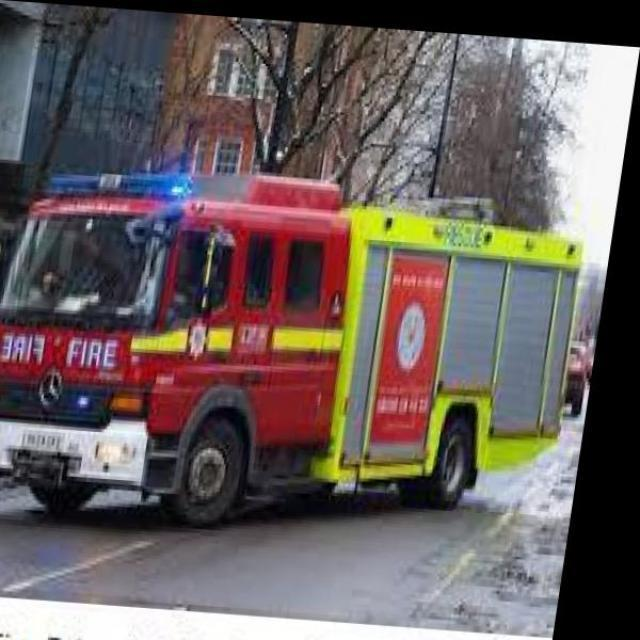emergency: (0, 166, 586, 526)
